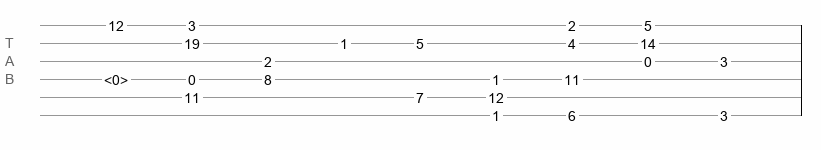0: (188, 72, 196, 82), (644, 54, 652, 64)
1: (340, 36, 348, 46), (492, 72, 500, 82), (492, 108, 500, 118)
11: (184, 90, 200, 100), (564, 72, 580, 82)
12: (108, 18, 124, 28), (488, 90, 504, 100)
14: (640, 36, 656, 46)
19: (184, 36, 200, 46)
2: (264, 54, 272, 64), (568, 18, 576, 28)
3: (188, 18, 196, 28), (720, 54, 728, 64), (720, 108, 728, 118)
4: (568, 36, 576, 46)
5: (416, 36, 424, 46), (644, 18, 652, 28)
6: (568, 108, 576, 118)
7: (416, 90, 424, 100)
8: (264, 72, 272, 82)
harmonic: (104, 72, 128, 82)
